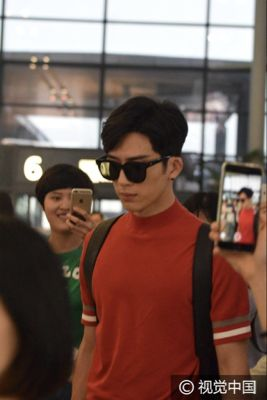no-mask: (95, 113, 176, 218), (38, 164, 87, 236)
